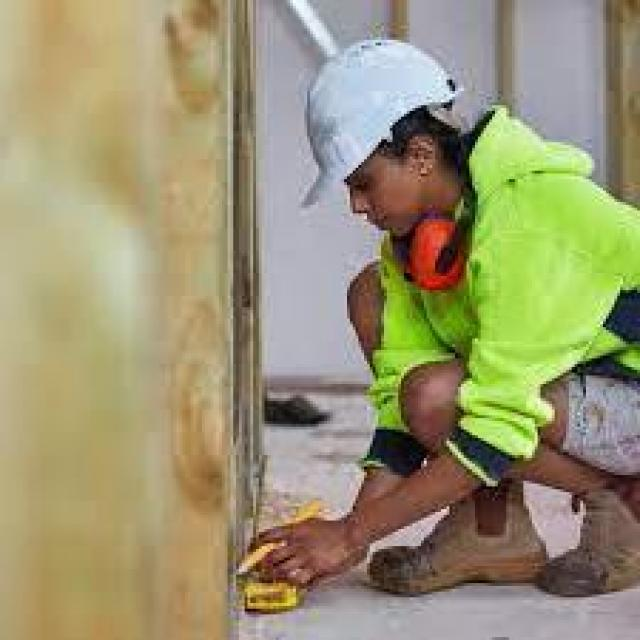Reflective-Jacket: (341, 122, 640, 478)
Safety-Helmet: (293, 34, 472, 194)
